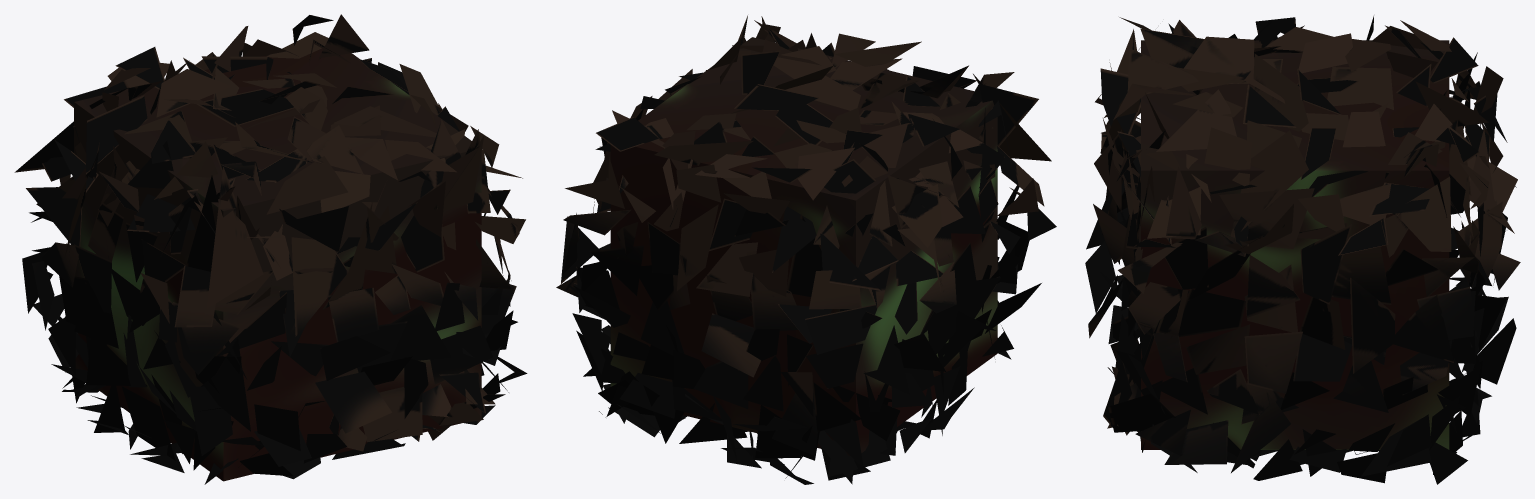
Rendered from burnthedge.fbx.
3 views of the same model, side by side, from view 1: azimuth 30°, elevation 25°; view 2: azimuth 150°, elevation 25°; view 3: azimuth 270°, elevation 25° (orthographic). The views are drawn at different scales.
Parts seen in each view (by area): view 1: Cube.003, Cube.004; view 2: Cube.003, Cube.004; view 3: Cube.003, Cube.004.
Part boxes in pixels (<box>): Cube.003: <box>14,14,527,484</box>; Cube.004: <box>74,48,481,481</box>; Cube.003: <box>556,15,1056,484</box>; Cube.004: <box>610,37,997,455</box>; Cube.003: <box>1085,16,1520,484</box>; Cube.004: <box>1141,40,1449,449</box>.
Bounding box in the file's own units: 95.54 × 84.41 × 90.81.
Materials: 2 (2 with a texture image).
